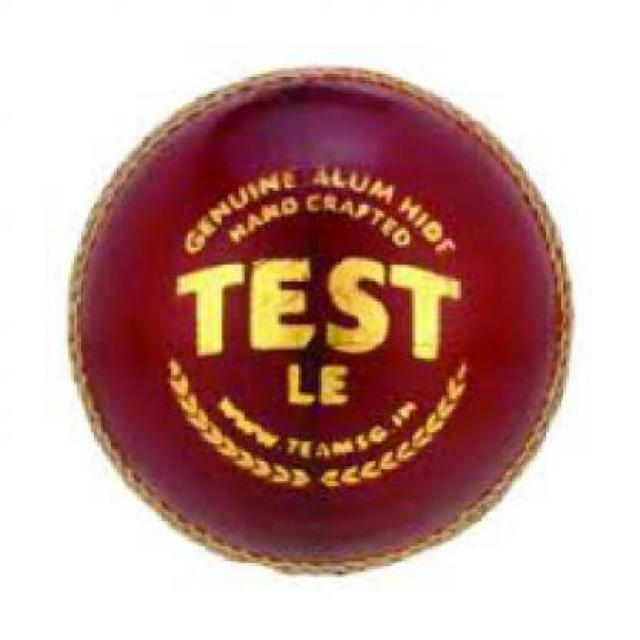ball: (45, 50, 595, 587)
